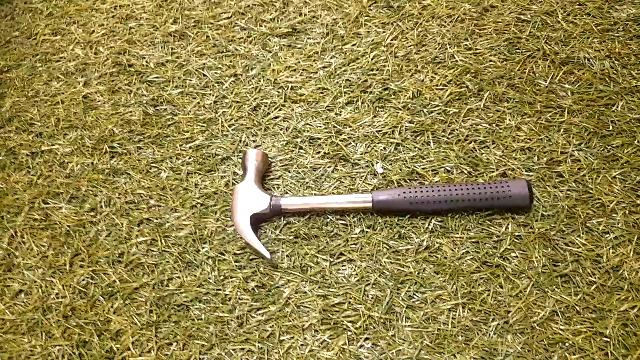hammer: (226, 144, 544, 264)
